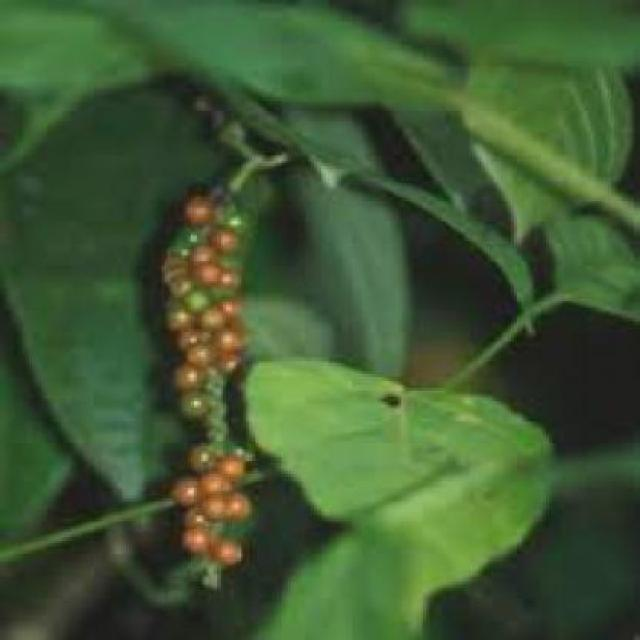RIPE: (156, 166, 253, 602)
